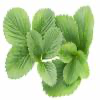Strawberry leaf: (39, 59, 80, 98), (4, 6, 34, 50), (5, 44, 35, 81), (55, 15, 82, 53), (43, 24, 64, 62), (31, 7, 56, 38), (26, 28, 44, 61), (37, 59, 58, 87), (62, 56, 80, 85), (57, 42, 77, 64), (75, 50, 90, 79)
